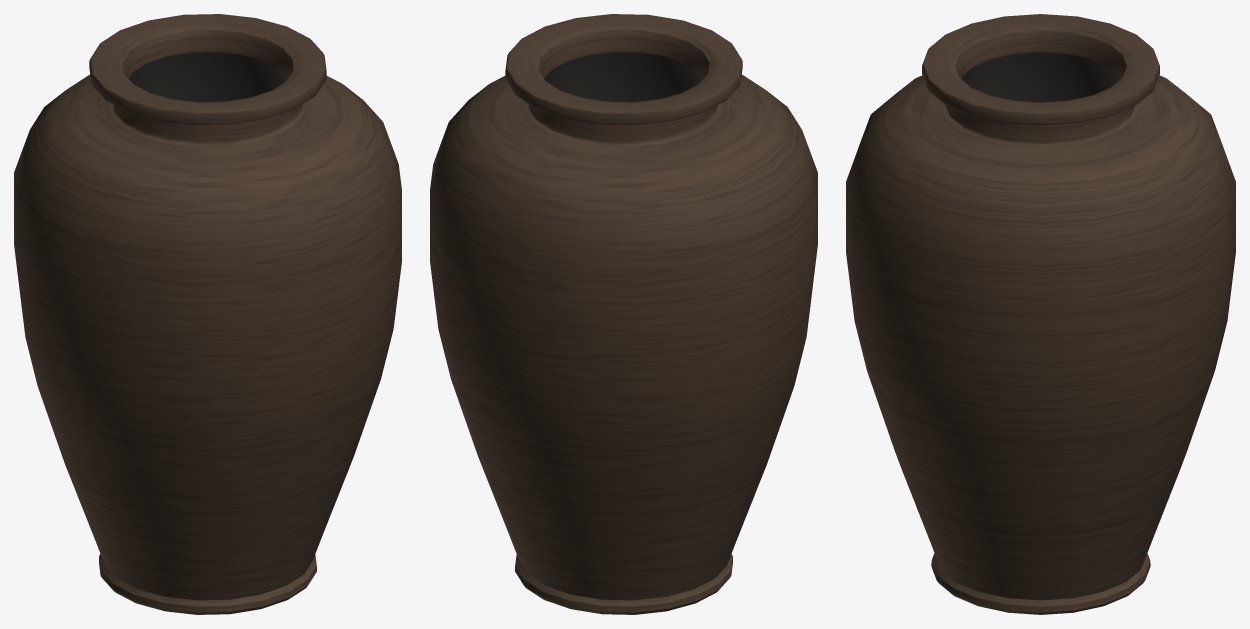
The model's file is pottery_03.fbx.
The picture shows the model from 3 angles, left to right: view 1: azimuth 30°, elevation 25°; view 2: azimuth 150°, elevation 25°; view 3: azimuth 270°, elevation 25°; orthographic projection.
Parts seen in each view (by area): view 1: pottery_03; view 2: pottery_03; view 3: pottery_03.
Part boxes in pixels (left/top/right/bottom): pottery_03: left=14, top=14, right=401, bottom=614; pottery_03: left=430, top=14, right=817, bottom=614; pottery_03: left=846, top=14, right=1235, bottom=614.
Bounding box in the file's own units: 45.28 × 65.12 × 45.28.
Materials: 1 (1 with a texture image).
